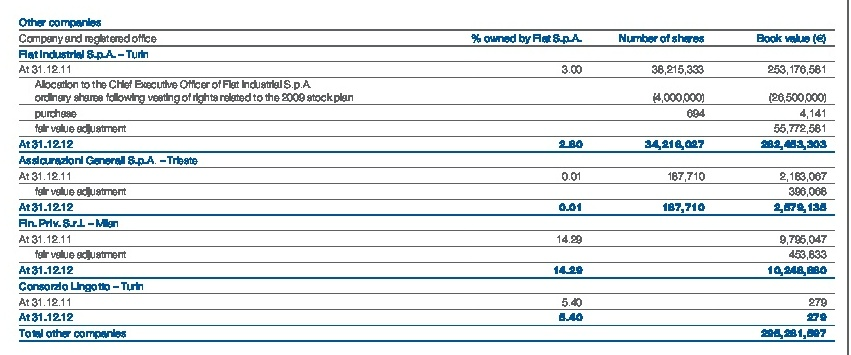table: (0, 0, 851, 355)
